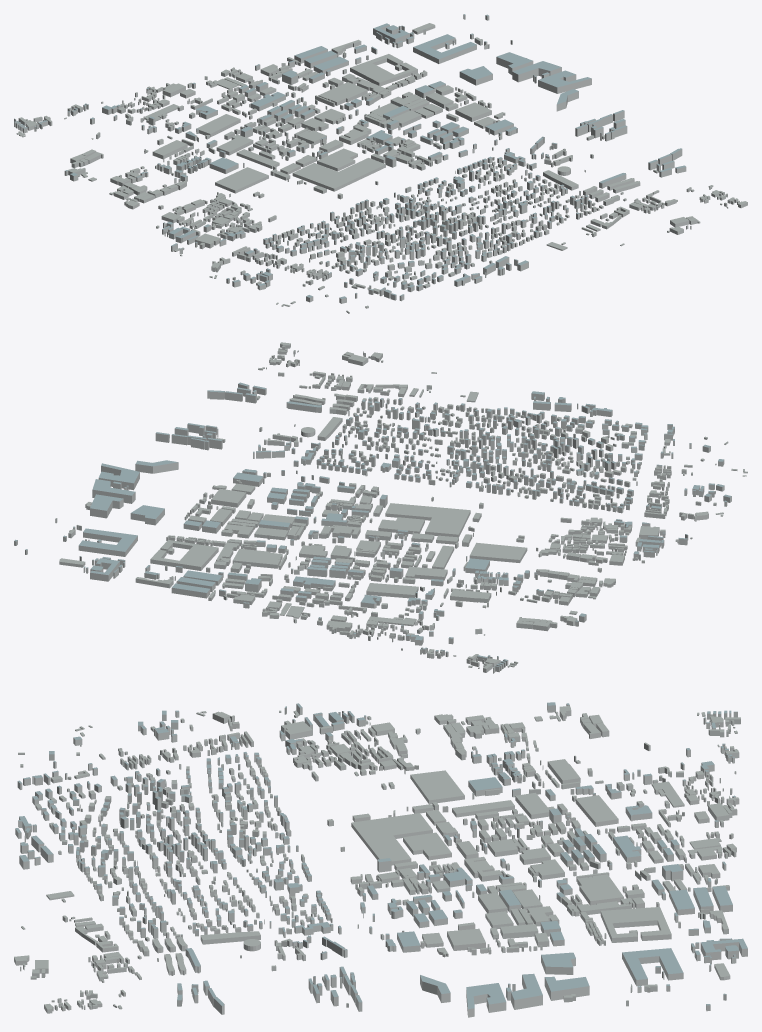
Rendered from far.glb.
The picture shows the model from 3 angles, top to bottom: view 1: azimuth 30°, elevation 25°; view 2: azimuth 150°, elevation 25°; view 3: azimuth 270°, elevation 25°; orthographic projection. The views are drawn at different scales.
Bounding box in the file's own units: 2122 × 43.93 × 2134.
